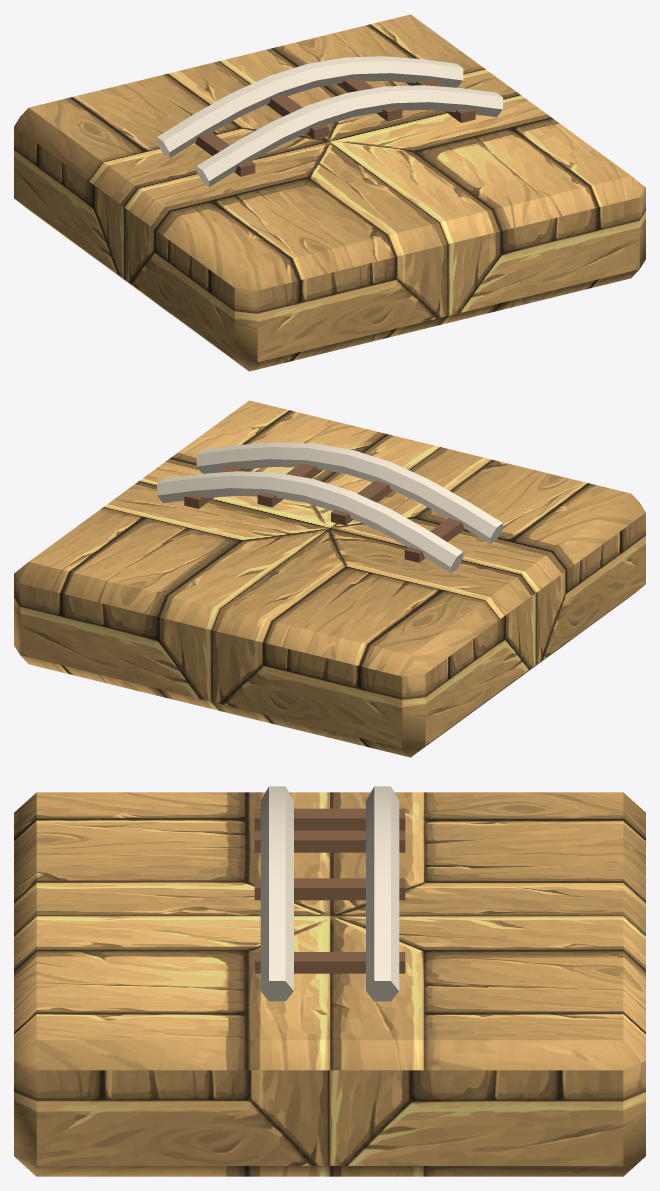
Rendered from tile_1.glb.
The picture shows the model from 3 angles, top to bottom: view 1: azimuth 30°, elevation 25°; view 2: azimuth 150°, elevation 25°; view 3: azimuth 270°, elevation 25°; orthographic projection. The views are drawn at different scales.
Visible parts, largest first — view 1: tile_1; view 2: tile_1; view 3: tile_1.
Boxes of the visible parts, x1,y1,x2,y2 form: tile_1: [14, 14, 645, 371]; tile_1: [14, 400, 645, 757]; tile_1: [14, 786, 645, 1176].
Size of the model in its own units: 0.84 by 0.3191 by 0.84.
3 materials, 1 textured.
